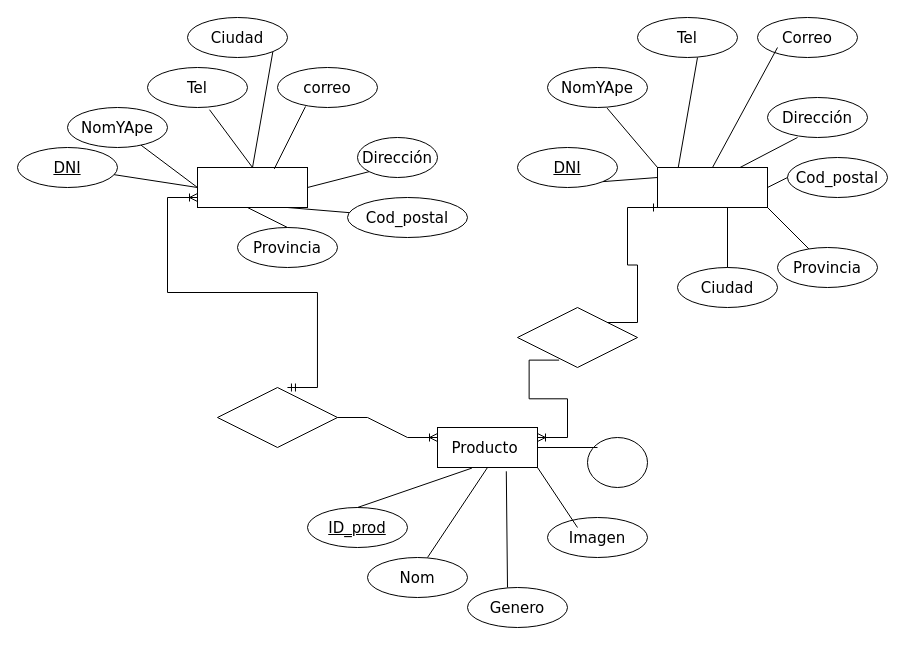
Image size: 905x645. Some labels were removed from this diagram. The centre of each missing label's shape, as x and y in pixels:
Destacó: (x=277, y=417)
Diseñadores: (x=712, y=187)
Precio: (x=617, y=462)
Producido: (x=577, y=337)
Usuarios: (x=252, y=187)
